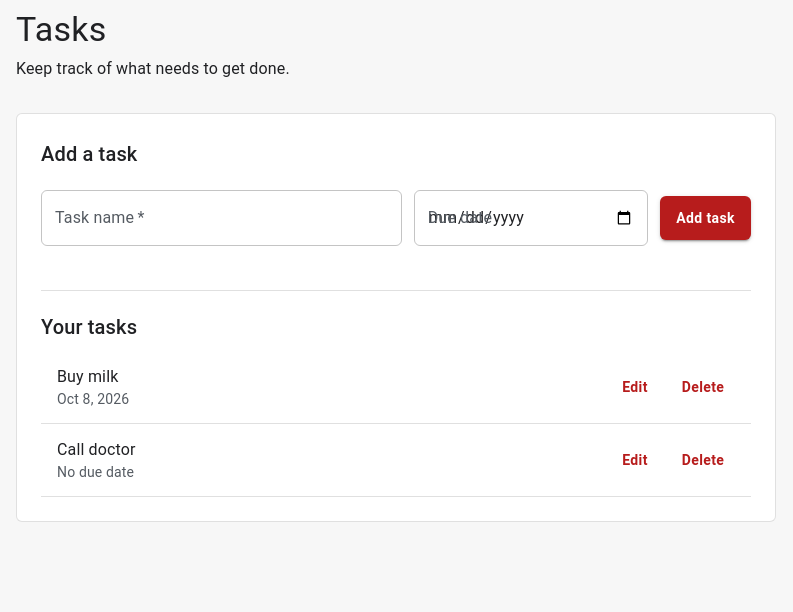
Scenario: App Component › creates a task with a due date
Type "Submit expenses" into the field labelled "Task name *" at point(221, 218), box [41, 190, 402, 246]
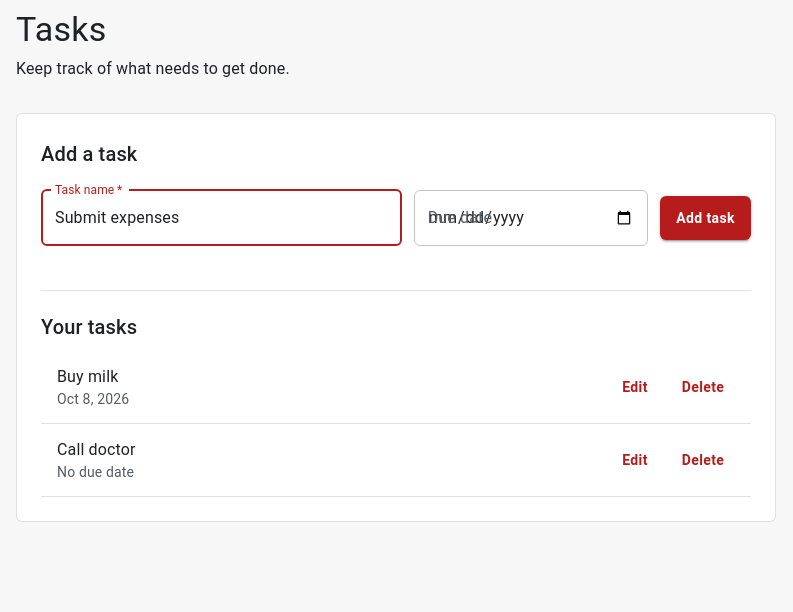
Type "2026-10-15" into the date field labelled "Due date" at point(531, 218), box [414, 190, 648, 246]
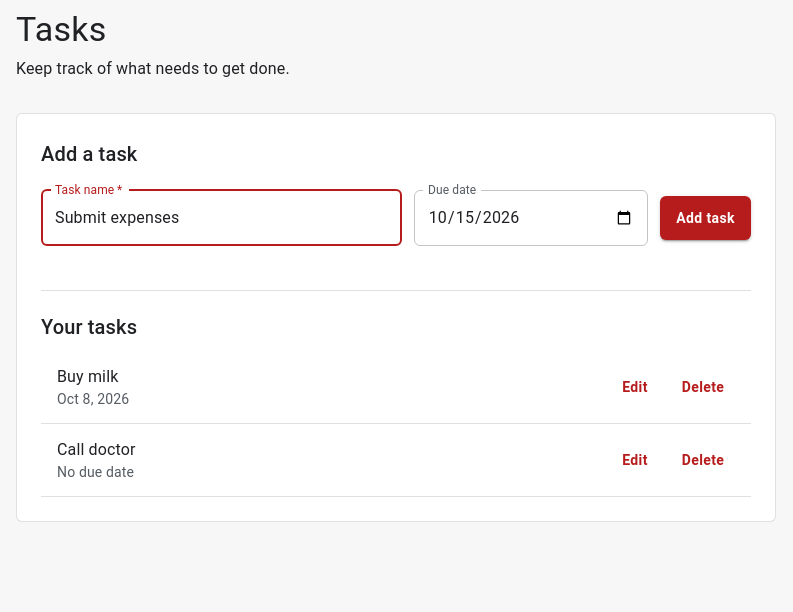
Click the button "Add task" at point(706, 218), box [660, 196, 751, 240]
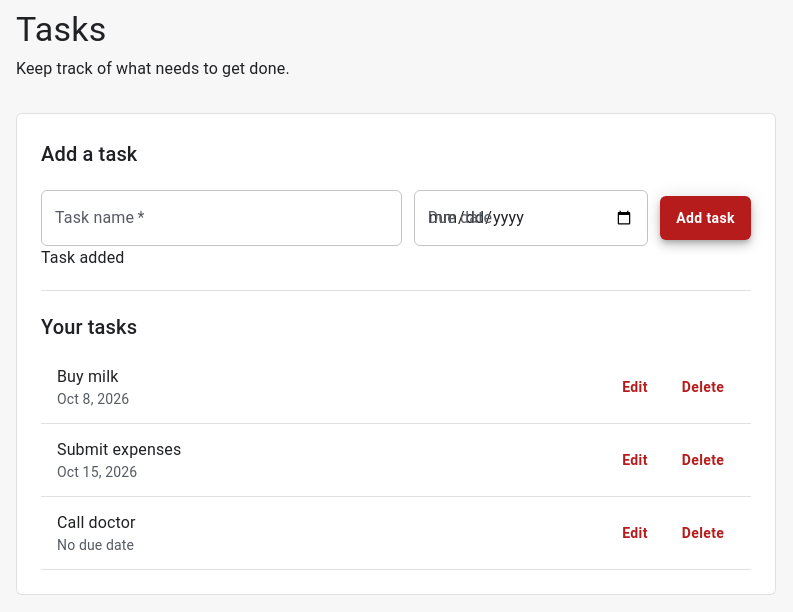
Expected: the text "Submit expenses" is shown, [57, 440, 181, 459]
Expected: the text "Oct 15, 2026" is shown, [57, 464, 137, 480]
